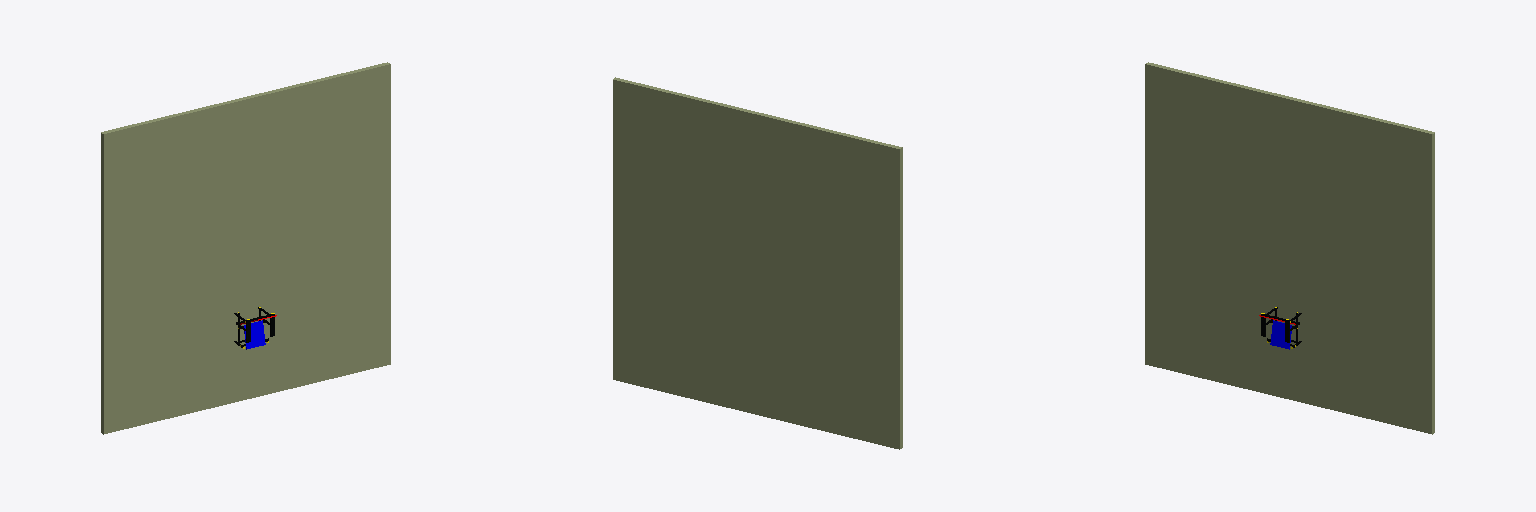
Rendered from krzeslo_nie_przerobione.obj.
The picture shows the model from 3 angles: view 1: azimuth 30°, elevation 25°; view 2: azimuth 150°, elevation 25°; view 3: azimuth 330°, elevation 25°; orthographic projection.
Parts seen in each view (by area): view 1: FLOOR.01; view 2: FLOOR.01; view 3: FLOOR.01.
Boxes of the visible parts, <box> form: FLOOR.01: <box>101,62,390,434</box>; FLOOR.01: <box>613,77,902,449</box>; FLOOR.01: <box>1145,62,1434,434</box>.
Size of the model in its own units: 240 by 240 by 34.03.